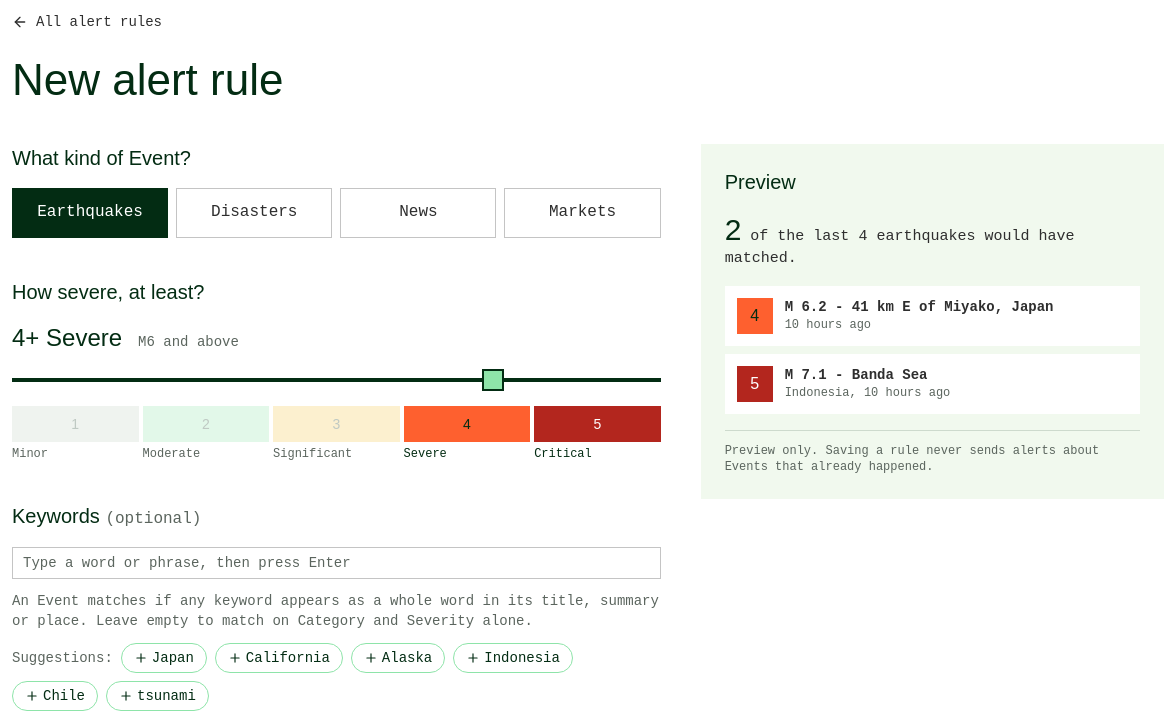
Test: Rule editor live preview › counts matches with the shared matches(): Severity threshold, then accent-insensitive keywords
Set the slider labelled "How severe, at least?" to "2". click: (178, 380)
box: [12,366,661,394]
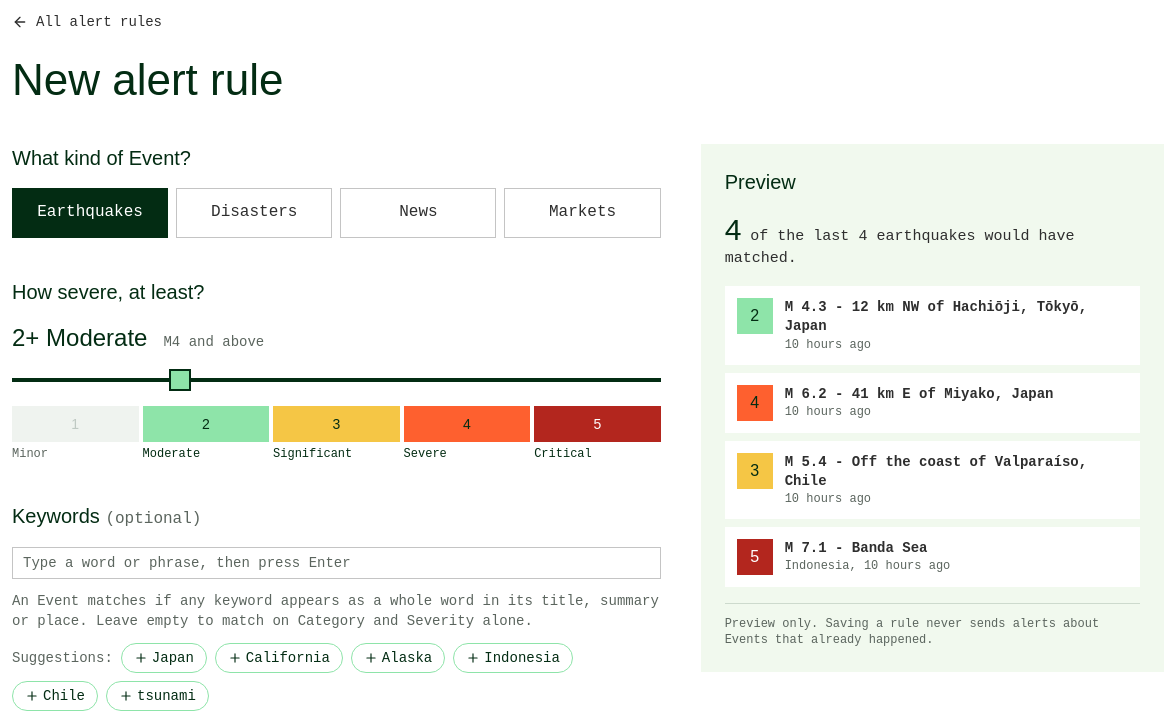
Now the text "4 of the last 4 earthquakes would have matched." is shown, box [725,213,1074,267]
"tokyo" typed without macrons must match "Tōkyō" (D4), as on the server.
Type "tokyo" into the field labelled "Keywords (optional)". click: (336, 563)
box: [12,547,661,579]
Then press Enter
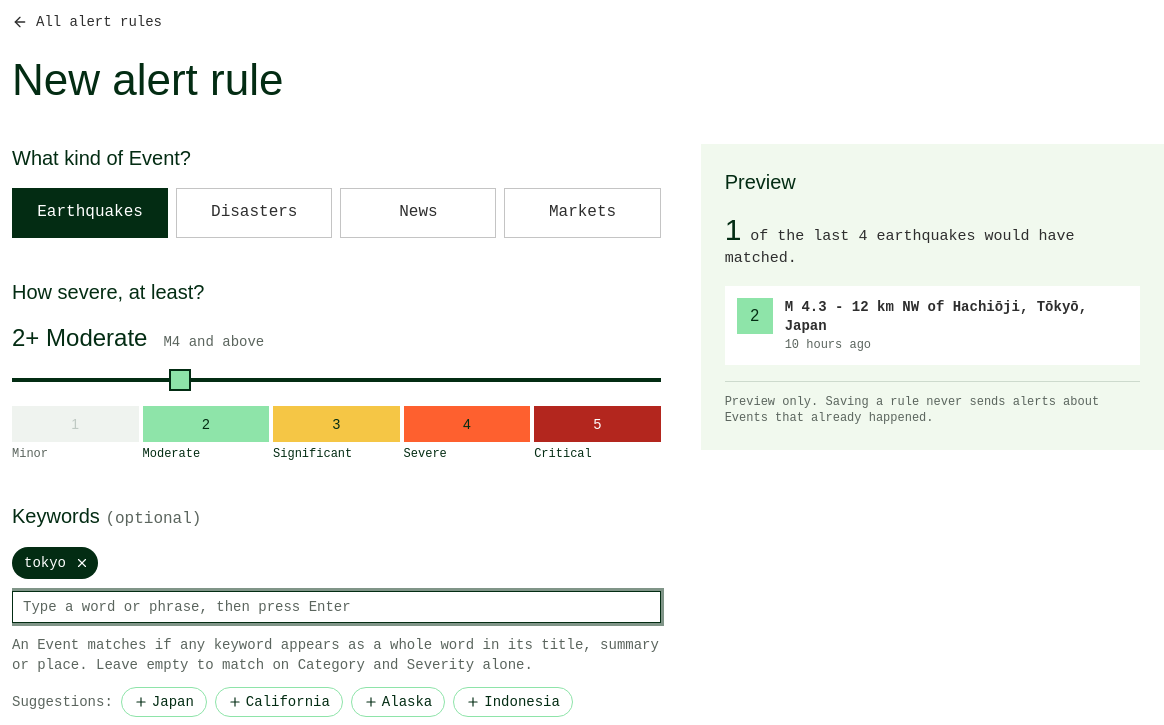
Now the text "M 4.3 - 12 km NW of Hachiōji, Tōkyō, Japan" is shown, box [785,298,1128,337]
Now the text "1 of the last 4 earthquakes would have matched." is shown, box [725,213,1074,267]
